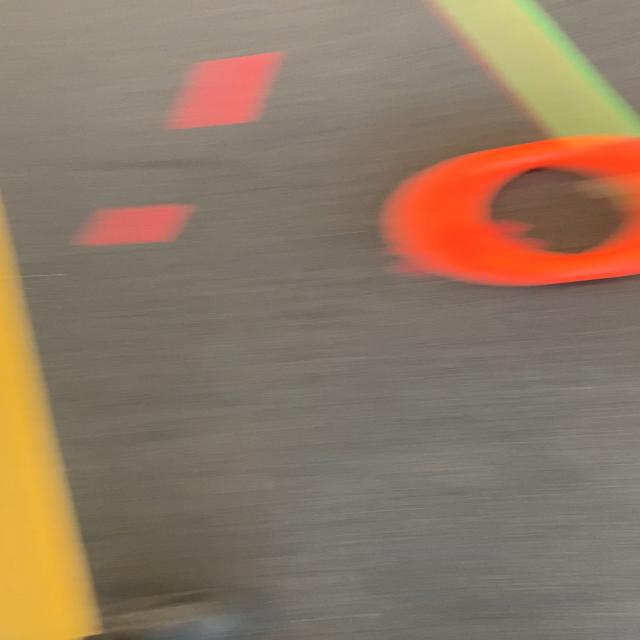notes: (388, 137, 640, 283)
